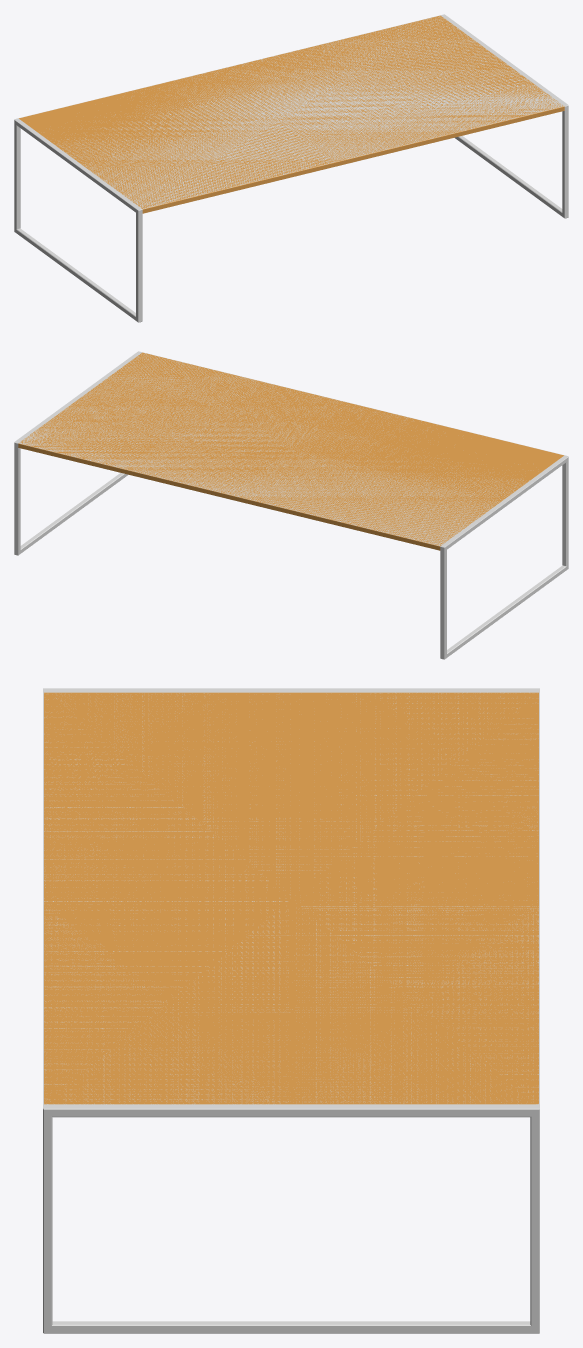
The model's file is tabletop-iron-frame-stand.glb.
3 renders of one model, top to bottom at view 1: azimuth 30°, elevation 25°; view 2: azimuth 150°, elevation 25°; view 3: azimuth 270°, elevation 25°, orthographic. The views are drawn at different scales.
Visible parts, largest first — view 1: __X_BODY__Cube.001, __TOP__Plane; view 2: __X_BODY__Cube.001, __TOP__Plane; view 3: __X_BODY__Cube.001, __TOP__Plane.
Part boxes in pixels (x1,y1,x2,y2): __X_BODY__Cube.001: (14, 14, 568, 322); __TOP__Plane: (14, 14, 568, 210); __X_BODY__Cube.001: (14, 351, 568, 659); __TOP__Plane: (14, 351, 568, 547); __X_BODY__Cube.001: (43, 688, 539, 1333); __TOP__Plane: (43, 688, 539, 1108).
Bounding box in the file's own units: 2 × 0.5 × 1.
